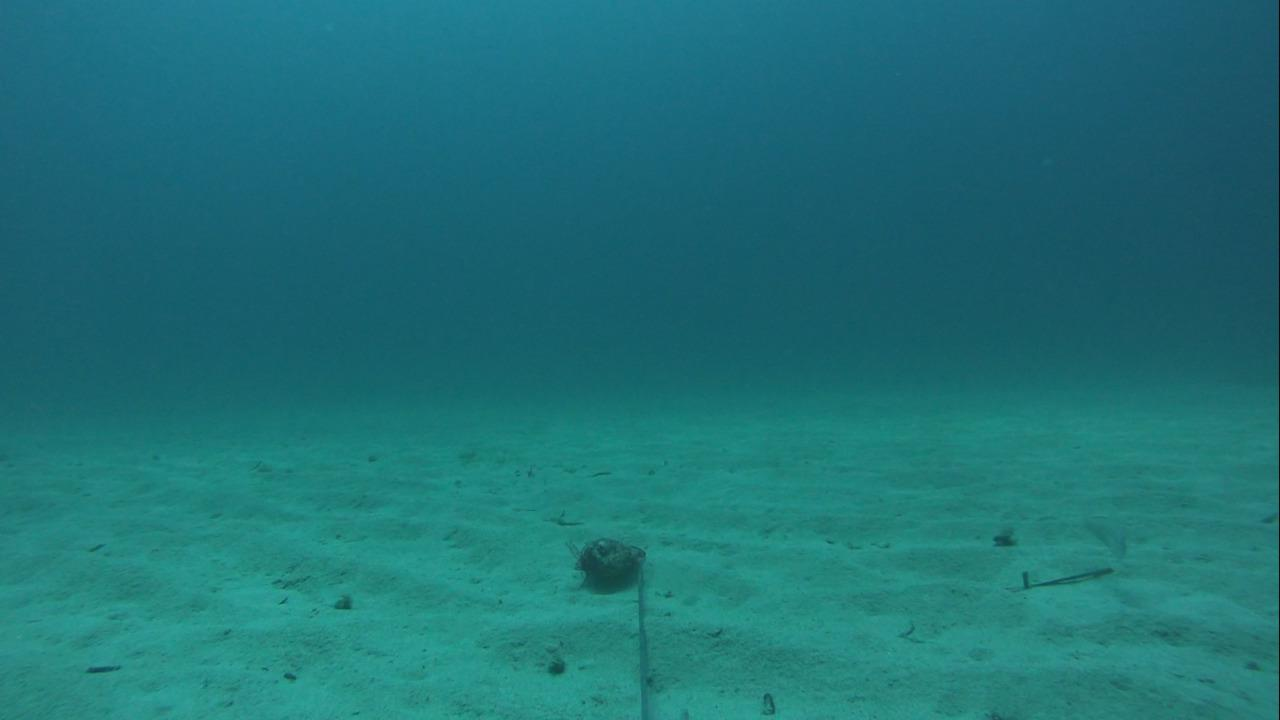raor: (1069, 510, 1134, 568)
